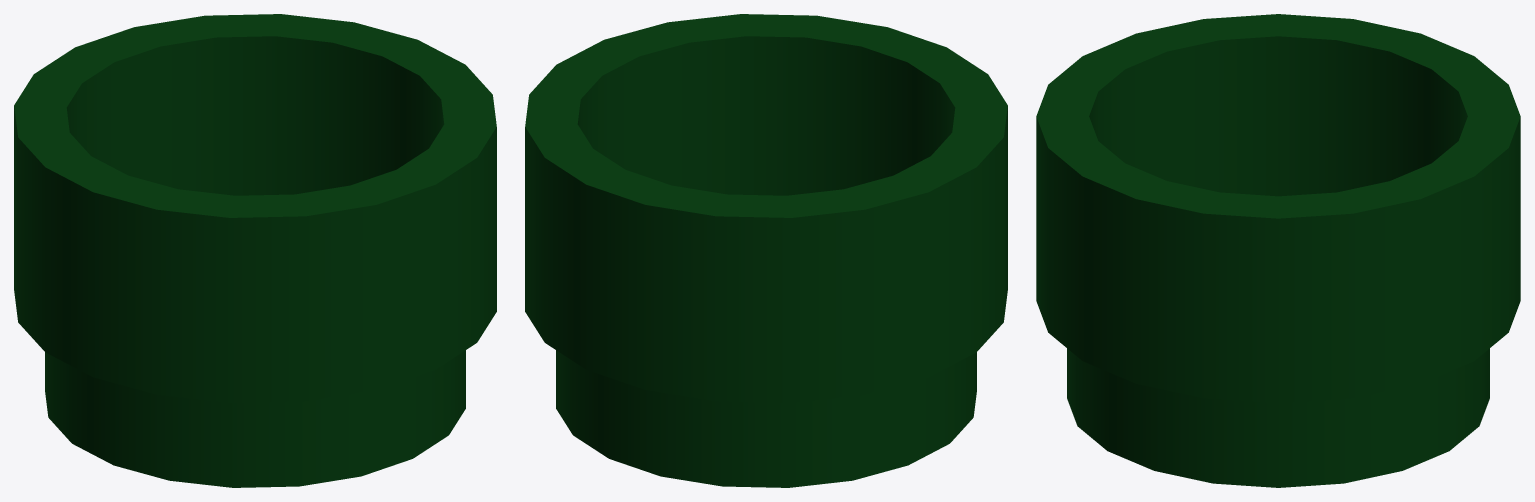
Rendered from Background_Mesh2.FBX.
3 views of the same model, side by side, from view 1: azimuth 30°, elevation 25°; view 2: azimuth 150°, elevation 25°; view 3: azimuth 270°, elevation 25° (orthographic).
Parts seen in each view (by area): view 1: Background_mesh_polySurface1; view 2: Background_mesh_polySurface1; view 3: Background_mesh_polySurface1.
Boxes of the visible parts, bbox=[...] form: Background_mesh_polySurface1: bbox=[14, 14, 496, 487]; Background_mesh_polySurface1: bbox=[525, 14, 1007, 487]; Background_mesh_polySurface1: bbox=[1036, 14, 1520, 487].
Bounding box in the file's own units: 1.4 × 1.4 × 0.8975.
Materials: 1 (1 with a texture image).
